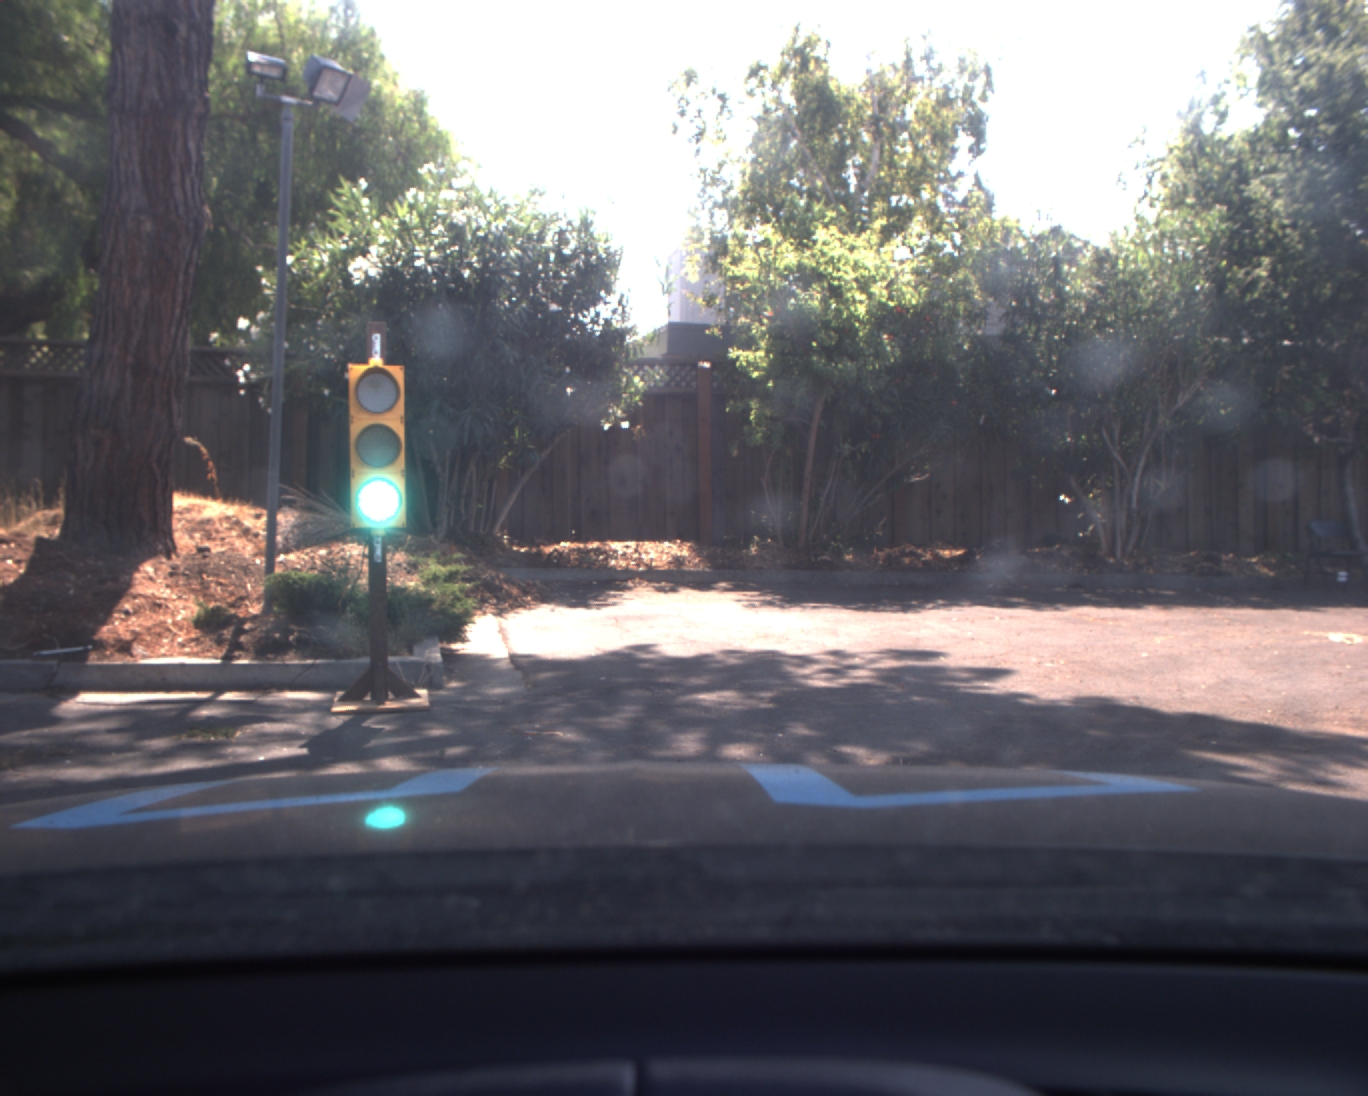green: (345, 359, 412, 531)
